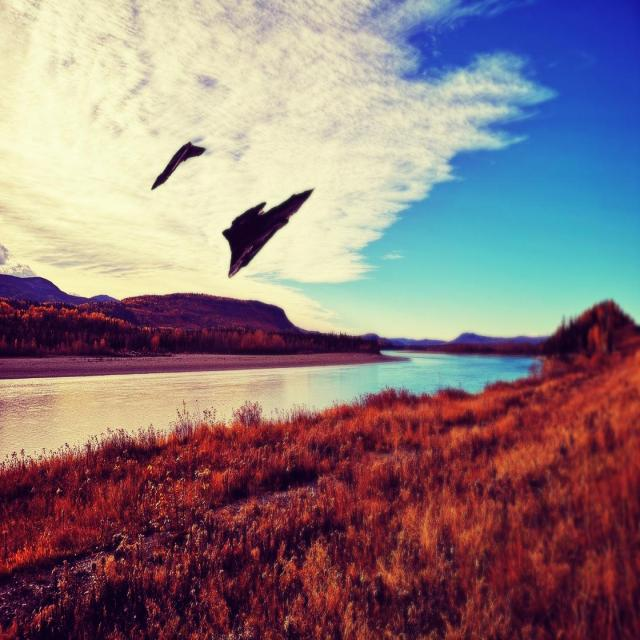airplane: (221, 187, 315, 278), (151, 138, 207, 198)
